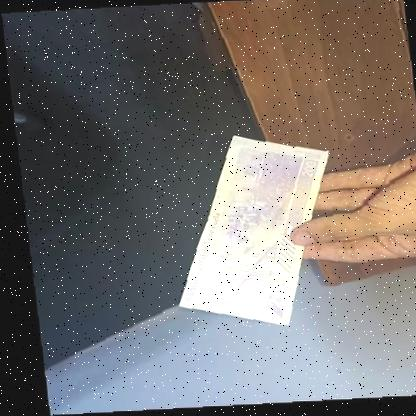vef_back: (160, 132, 339, 330)
